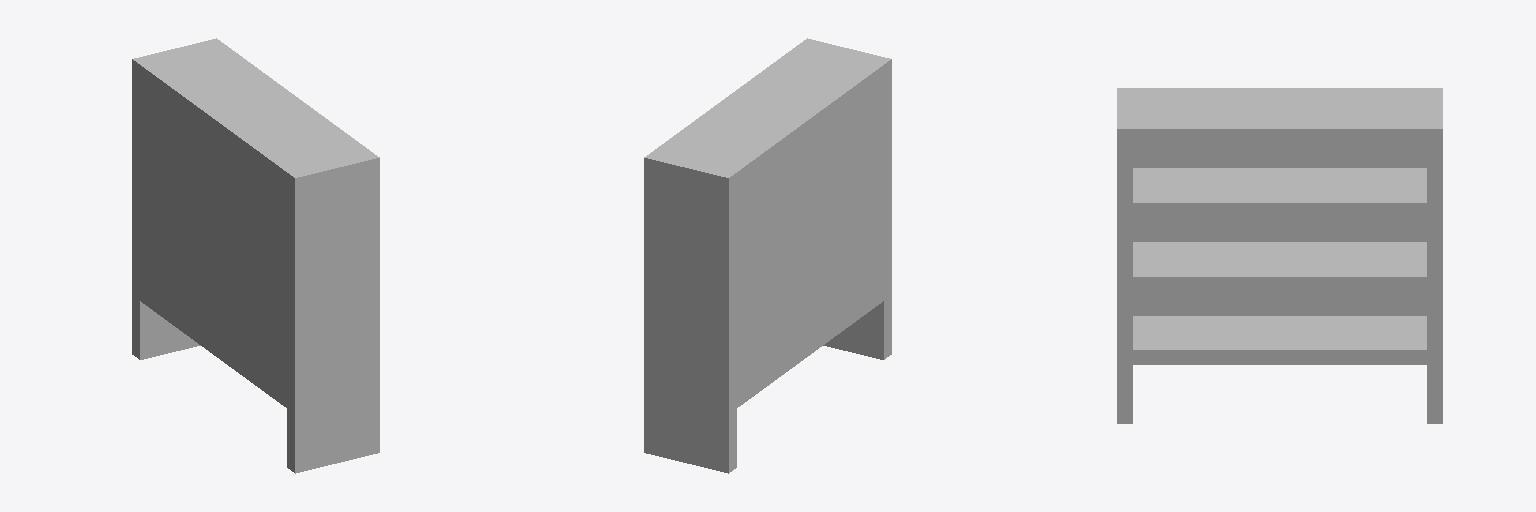
File: cabinet.obj
3 views of the same model, side by side, from view 1: azimuth 30°, elevation 25°; view 2: azimuth 150°, elevation 25°; view 3: azimuth 270°, elevation 25° (orthographic).
Visible parts, largest first — view 1: cabinet; view 2: cabinet; view 3: cabinet.
Boxes of the visible parts, box(x1,y1,x2,y2) form: cabinet: box(132, 38, 379, 473); cabinet: box(644, 38, 891, 473); cabinet: box(1117, 88, 1442, 423).
Size of the model in its own units: 6 by 20 by 20.